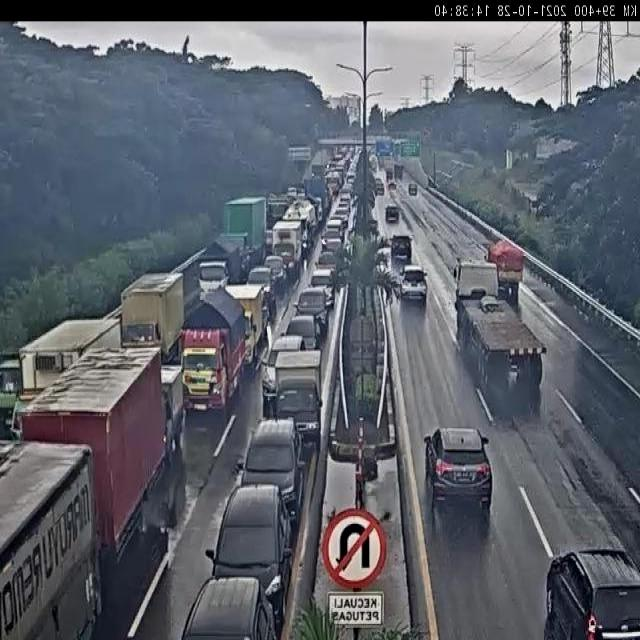Car: (207, 484, 295, 632), (543, 548, 640, 638), (423, 425, 492, 522), (238, 419, 302, 522), (180, 576, 280, 640), (294, 287, 331, 339), (284, 312, 322, 356), (308, 267, 337, 309), (399, 264, 429, 304), (247, 265, 274, 307), (270, 334, 305, 360), (264, 254, 287, 292), (314, 250, 341, 277), (318, 236, 344, 257), (320, 228, 344, 248), (326, 218, 344, 239), (332, 206, 350, 226), (385, 204, 400, 223), (375, 181, 385, 196), (287, 187, 299, 199), (338, 200, 352, 210), (408, 183, 418, 195), (388, 180, 397, 190)
Truck: (16, 346, 170, 556), (1, 438, 101, 639), (452, 270, 544, 414), (179, 289, 251, 418), (17, 318, 120, 405), (119, 272, 185, 362), (270, 345, 324, 448), (224, 283, 272, 373), (197, 235, 251, 288), (453, 258, 498, 318), (223, 196, 267, 254), (486, 240, 525, 305), (161, 363, 186, 455), (271, 218, 306, 280), (282, 197, 318, 256), (198, 261, 228, 298), (304, 176, 328, 220), (266, 194, 293, 233), (390, 234, 412, 263), (324, 169, 342, 197), (394, 162, 404, 179), (385, 166, 394, 182)
